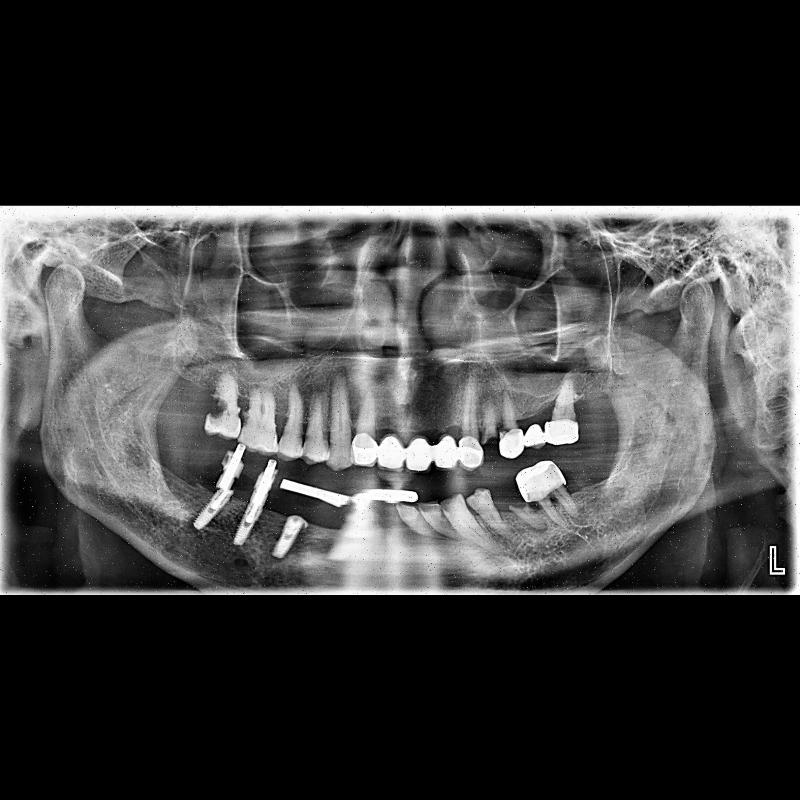osstem: (263, 514, 309, 564), (190, 484, 232, 534), (233, 504, 267, 550)
